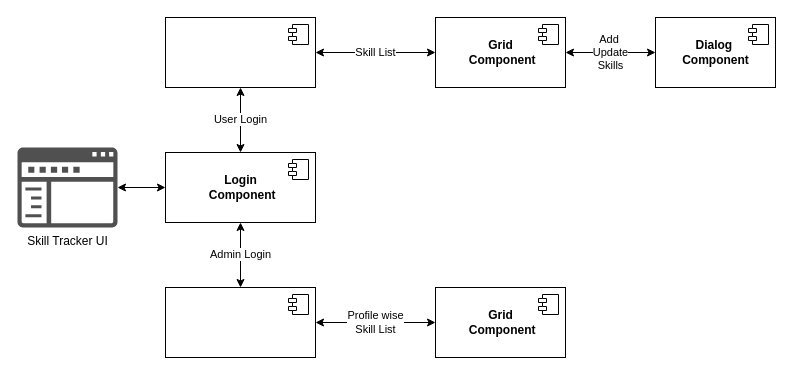
The diagram is 793 pixels wide and 375 high, and some of its shapes have lost their labels. Here are the shapes that lost their labels. From the top down, the centre of each, then its label:
point 240,52: User Profile Component
point 240,322: Admin Profile Component
